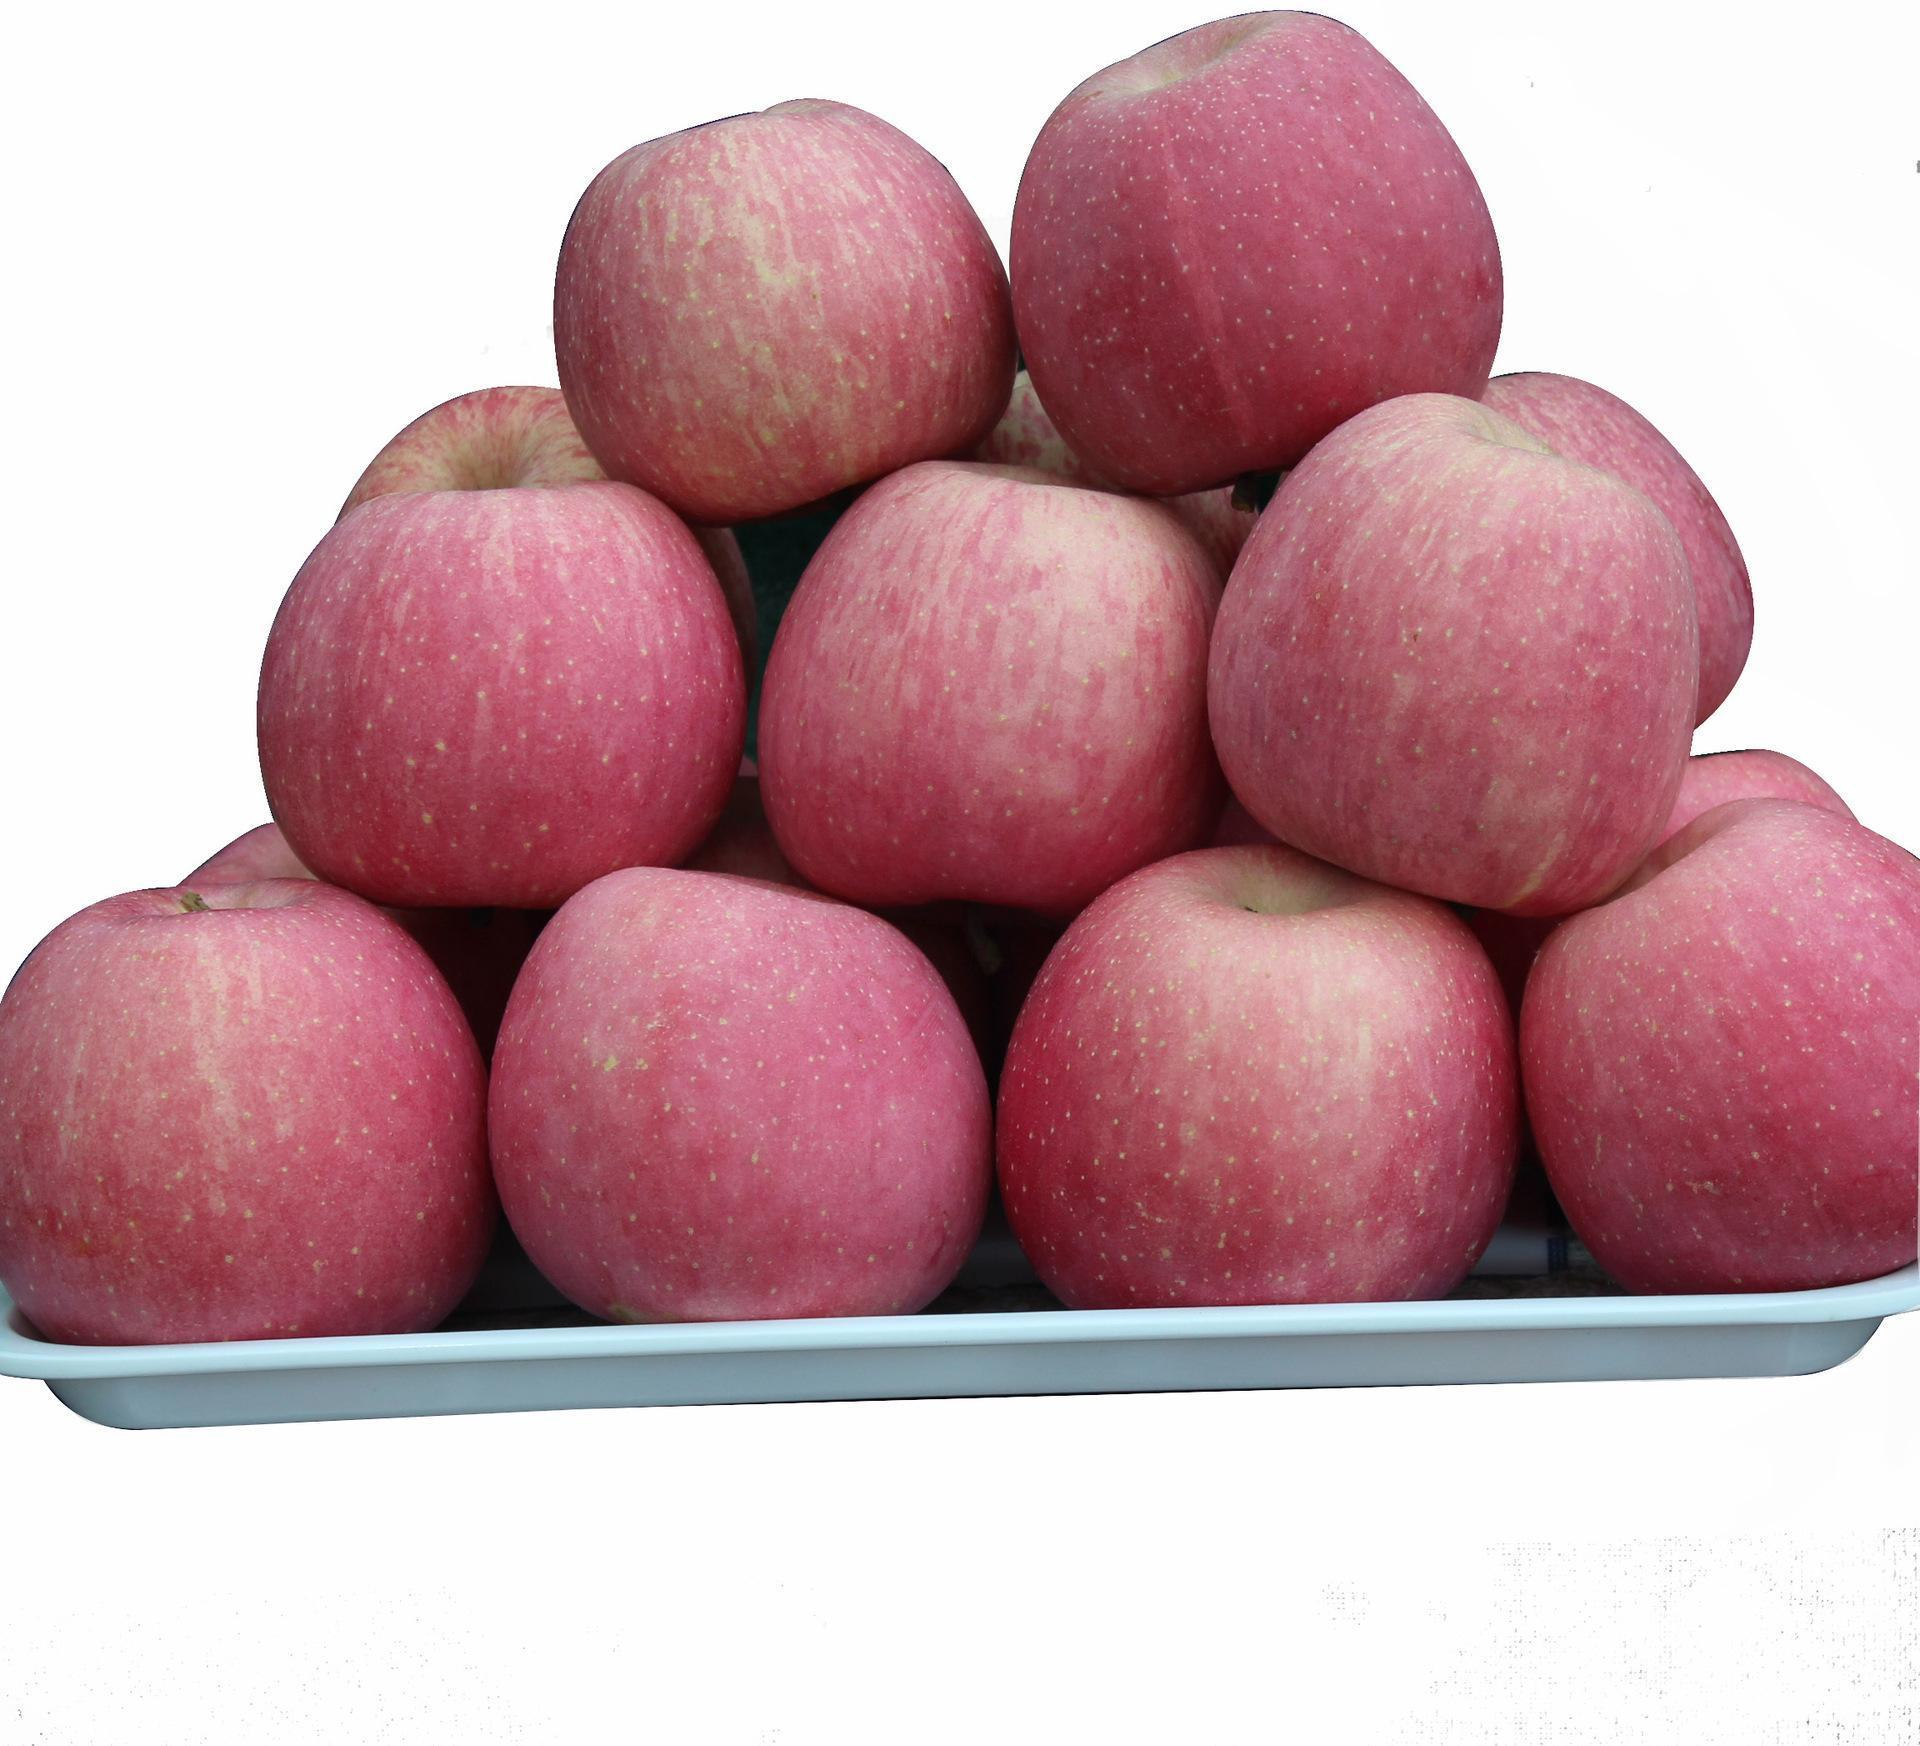apple: (1197, 390, 1698, 913), (1002, 5, 1507, 507), (995, 841, 1519, 1311), (487, 858, 992, 1330), (12, 850, 475, 1355), (1514, 743, 1913, 1303), (258, 473, 748, 920), (758, 457, 1219, 906), (550, 97, 1010, 523)
